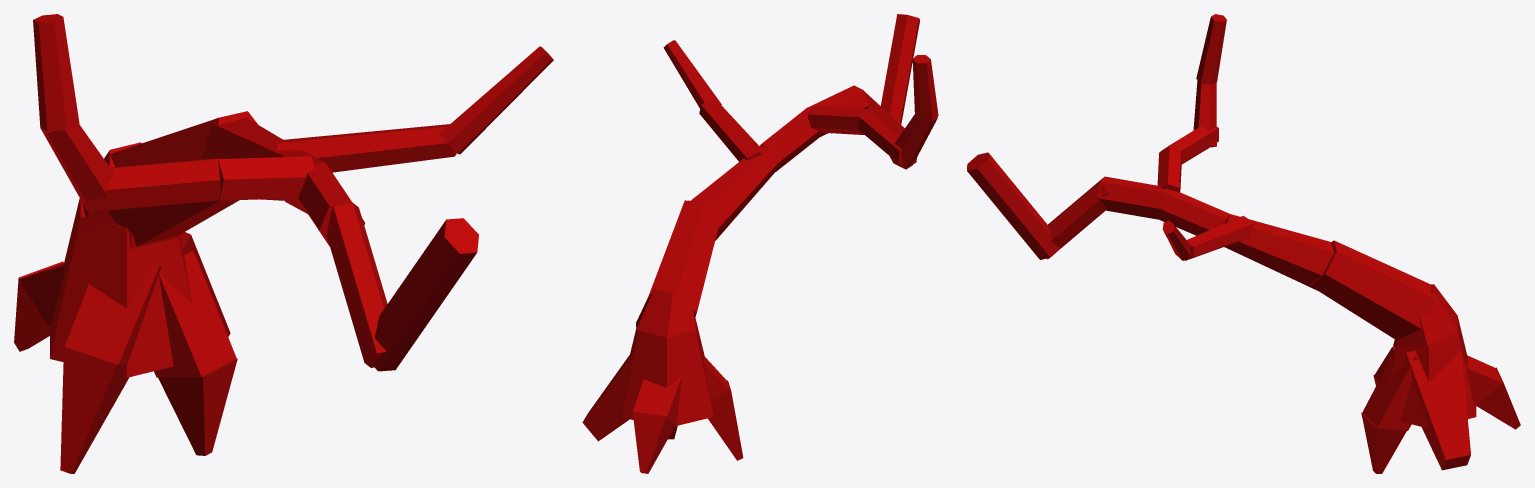
Rendered from SM_Env_Tree_Pohutukawa_04_Collision.gltf.
The picture shows the model from 3 angles, left to right: view 1: azimuth 30°, elevation 25°; view 2: azimuth 150°, elevation 25°; view 3: azimuth 270°, elevation 25°; orthographic projection. The views are drawn at different scales.
Visible parts, largest first — view 1: SM_Env_Tree_Pohutukawa_04_Collision; view 2: SM_Env_Tree_Pohutukawa_04_Collision; view 3: SM_Env_Tree_Pohutukawa_04_Collision.
Part boxes in pixels (box(x1,y1,x2,y2)): SM_Env_Tree_Pohutukawa_04_Collision: box(14, 14, 553, 473); SM_Env_Tree_Pohutukawa_04_Collision: box(582, 14, 938, 473); SM_Env_Tree_Pohutukawa_04_Collision: box(967, 14, 1520, 473).
Size of the model in its own units: 1.89 by 2.28 by 3.09.
